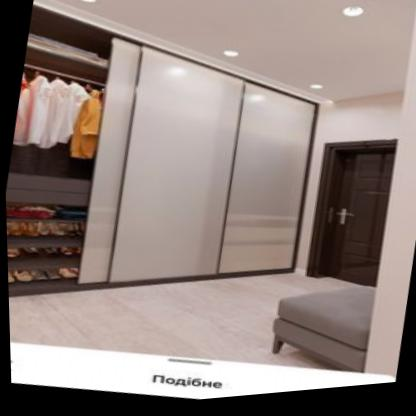Closet: (5, 0, 327, 294)
